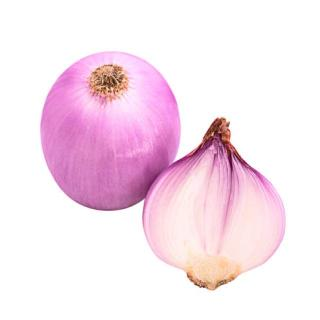Bawang Merah: (141, 116, 289, 294), (37, 49, 183, 213)
